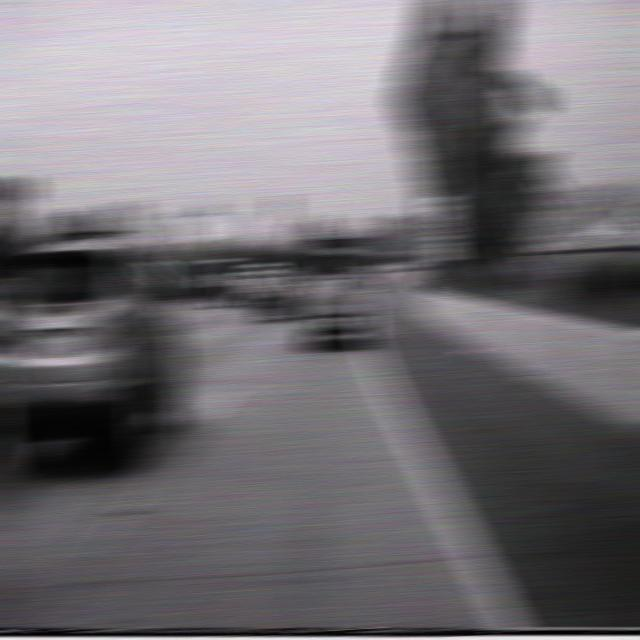speedLimit65: (425, 192, 458, 242)
